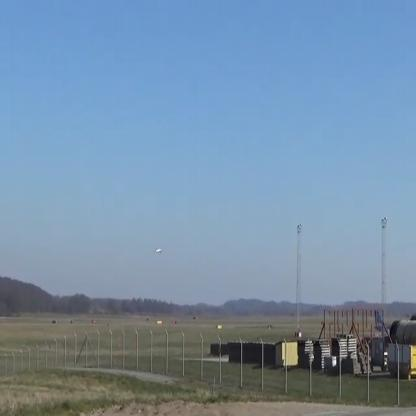CIV_Plane: (152, 244, 164, 258)
